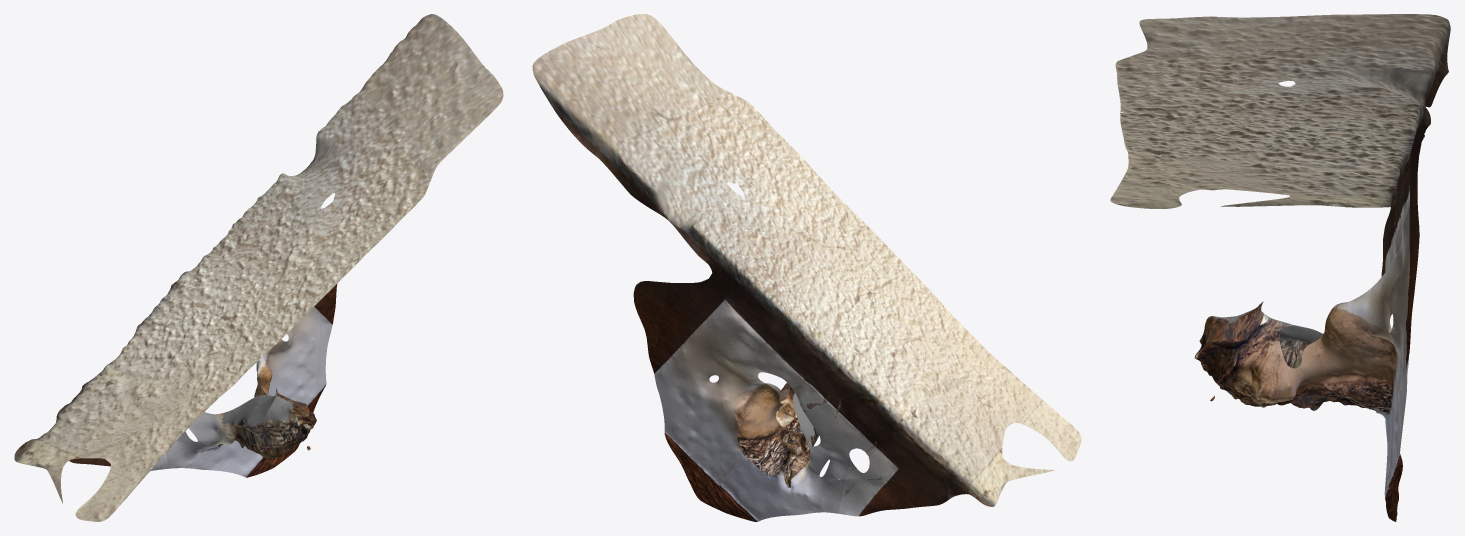
File: sadLady - kopie.obj
3 renders of one model, left to right at view 1: azimuth 30°, elevation 25°; view 2: azimuth 150°, elevation 25°; view 3: azimuth 270°, elevation 25°, orthographic. The views are drawn at different scales.
Size of the model in its own units: 60.25 by 52.97 by 25.43.
Materials: 2 (1 with a texture image).
